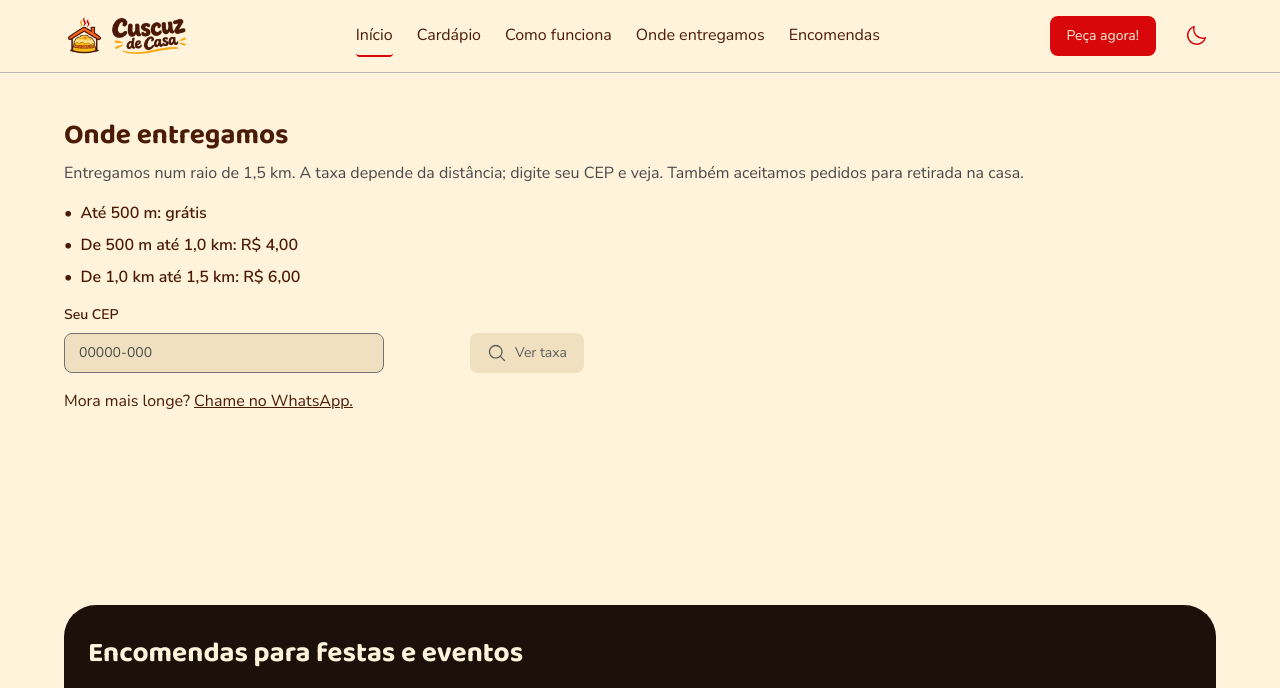
Test: Home: onde entregamos e consulta de taxa › o CEP completo já mostra a taxa, sem apertar o botão, e registra a consulta sem o CEP
(page scrolled)
Type "57046000" into the field labelled "Seu CEP" at [224, 353], box left=77, top=334, right=371, bottom=372
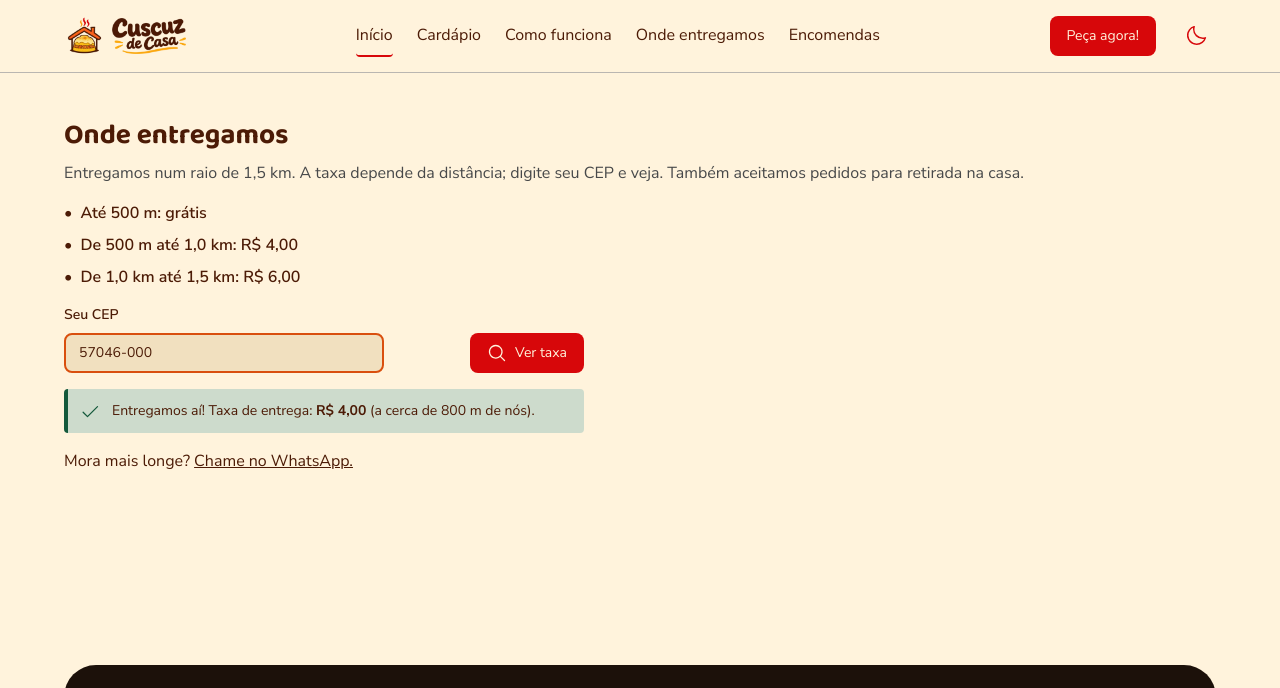
Now the text "Entregamos aí!" is shown, box left=112, top=401, right=316, bottom=420
